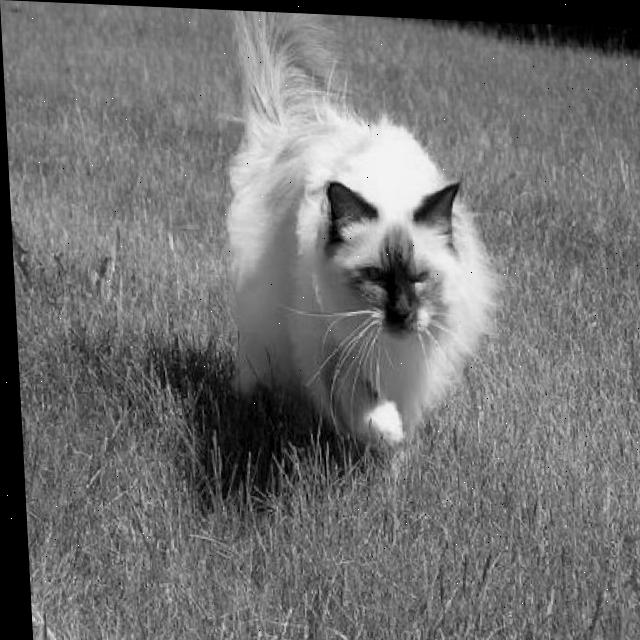Cat: (212, 9, 496, 450)
